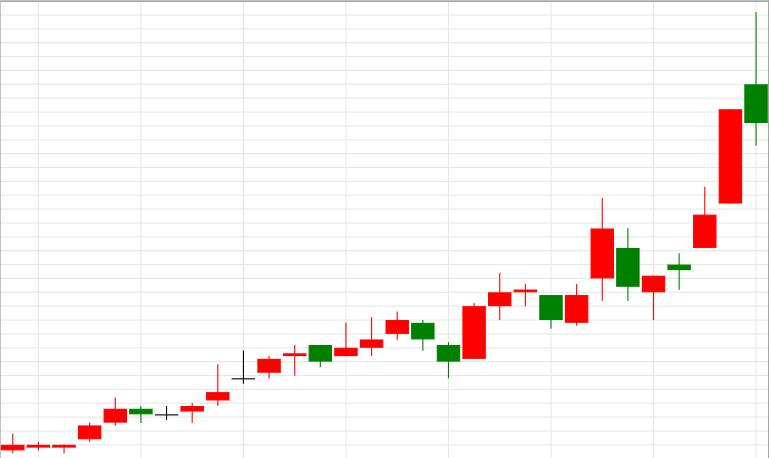shooting_star_fall: (565, 11, 769, 328)
